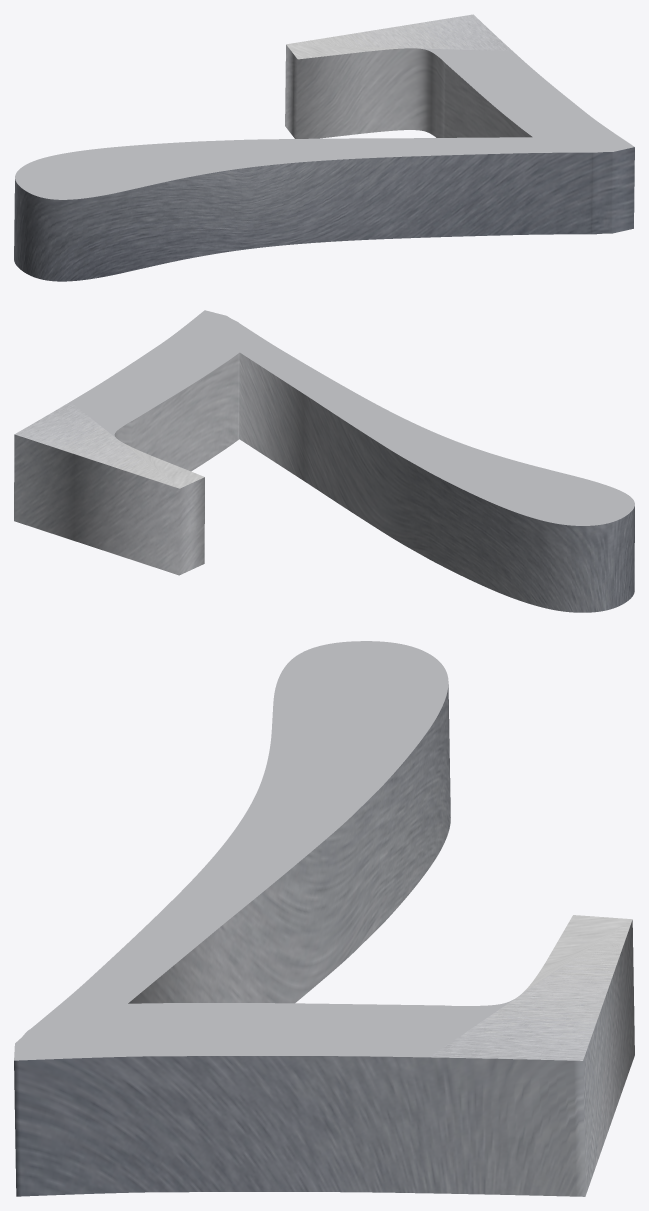
File: number7.obj
The picture shows the model from 3 angles, top to bottom: view 1: azimuth 30°, elevation 25°; view 2: azimuth 150°, elevation 25°; view 3: azimuth 270°, elevation 25°; orthographic projection. The views are drawn at different scales.
Parts seen in each view (by area): view 1: Text.029; view 2: Text.029; view 3: Text.029.
Part boxes in pixels (x1,y1,x2,y2): Text.029: (14, 14, 634, 281); Text.029: (14, 310, 634, 612); Text.029: (14, 641, 634, 1196).
Size of the model in its own units: 1.06 by 0.1717 by 0.6615.
